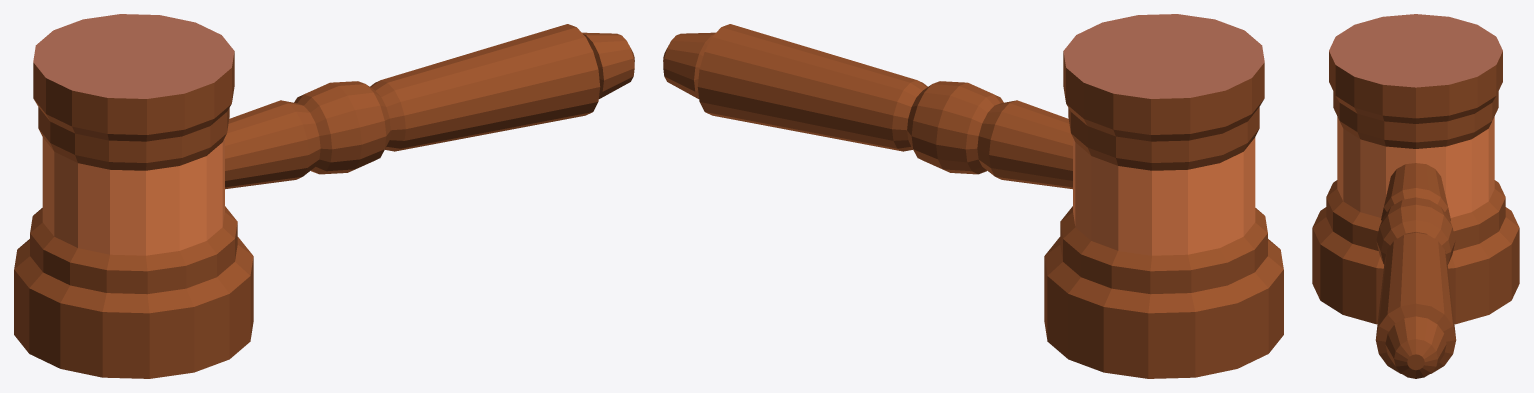
Rendered from armadilha martelo .fbx.
3 views of the same model, side by side, from view 1: azimuth 30°, elevation 25°; view 2: azimuth 150°, elevation 25°; view 3: azimuth 270°, elevation 25° (orthographic). The views are drawn at different scales.
Parts seen in each view (by area): view 1: Cylinder; view 2: Cylinder; view 3: Cylinder.
Boxes of the visible parts, x1=… form: Cylinder: x1=14, y1=14, x2=634, y2=378; Cylinder: x1=663, y1=14, x2=1283, y2=378; Cylinder: x1=1312, y1=14, x2=1519, y2=378.
Size of the model in its own units: 574 by 248 by 200.
